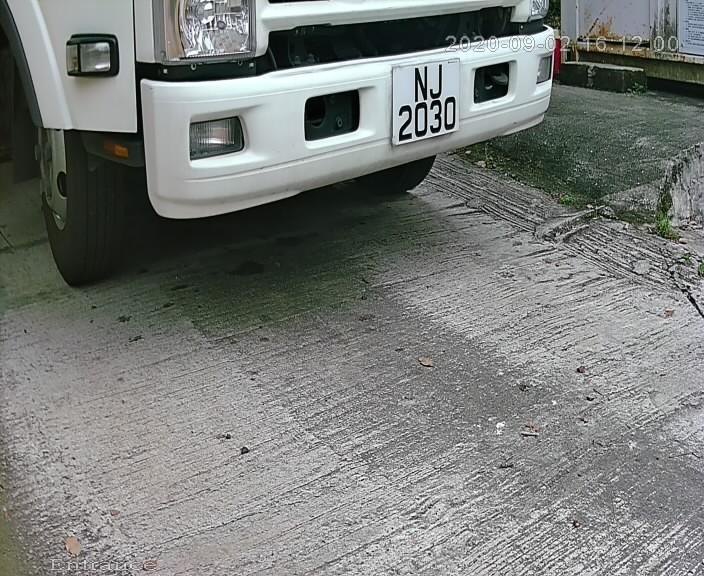License Plate: (362, 44, 475, 163)
